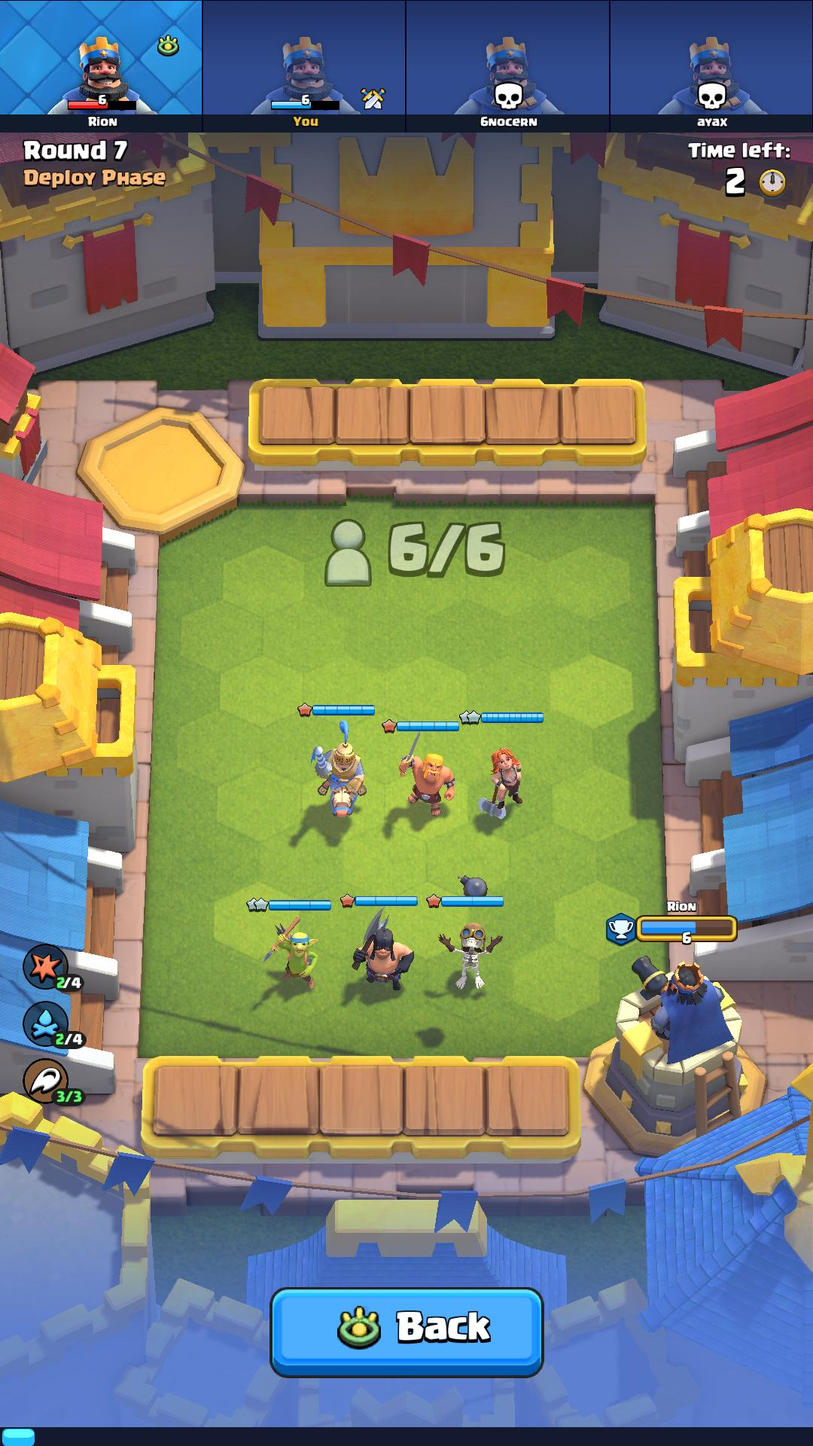barbarian: (391, 731, 460, 816)
bomber: (434, 914, 507, 993)
executioner: (350, 909, 414, 987)
prince: (307, 717, 378, 820)
spear: (256, 916, 329, 984)
valkyrie: (470, 743, 531, 825)
